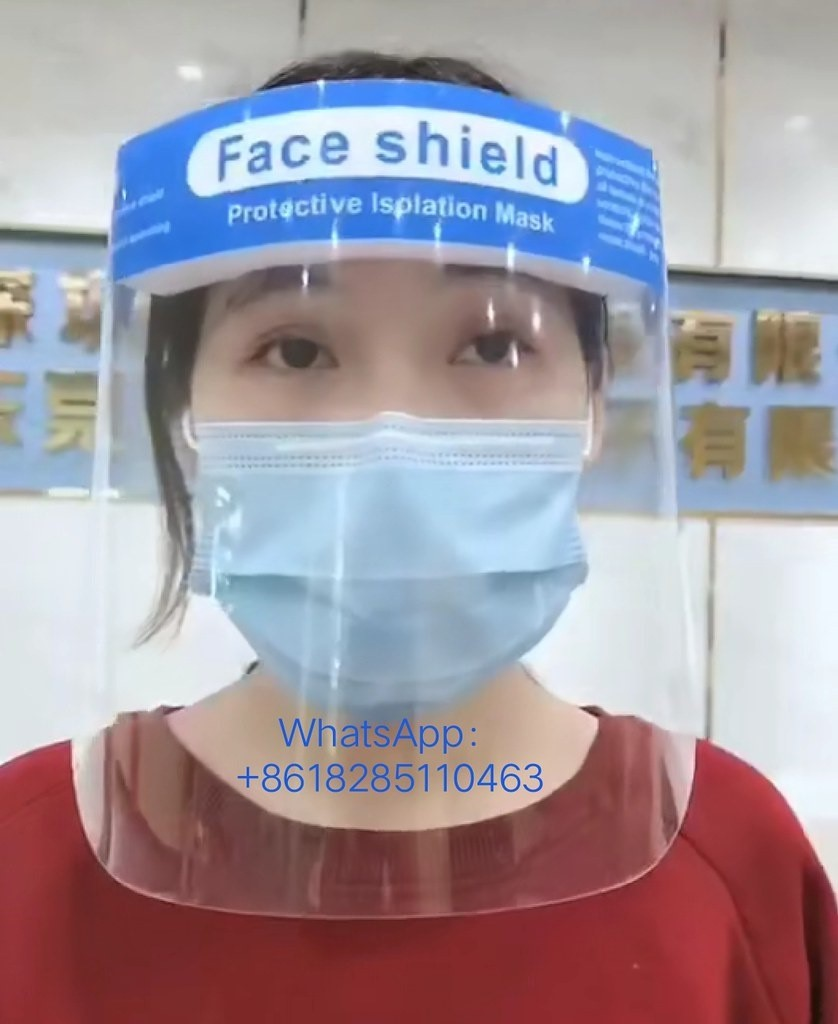face_with_mask: (151, 59, 612, 719)
